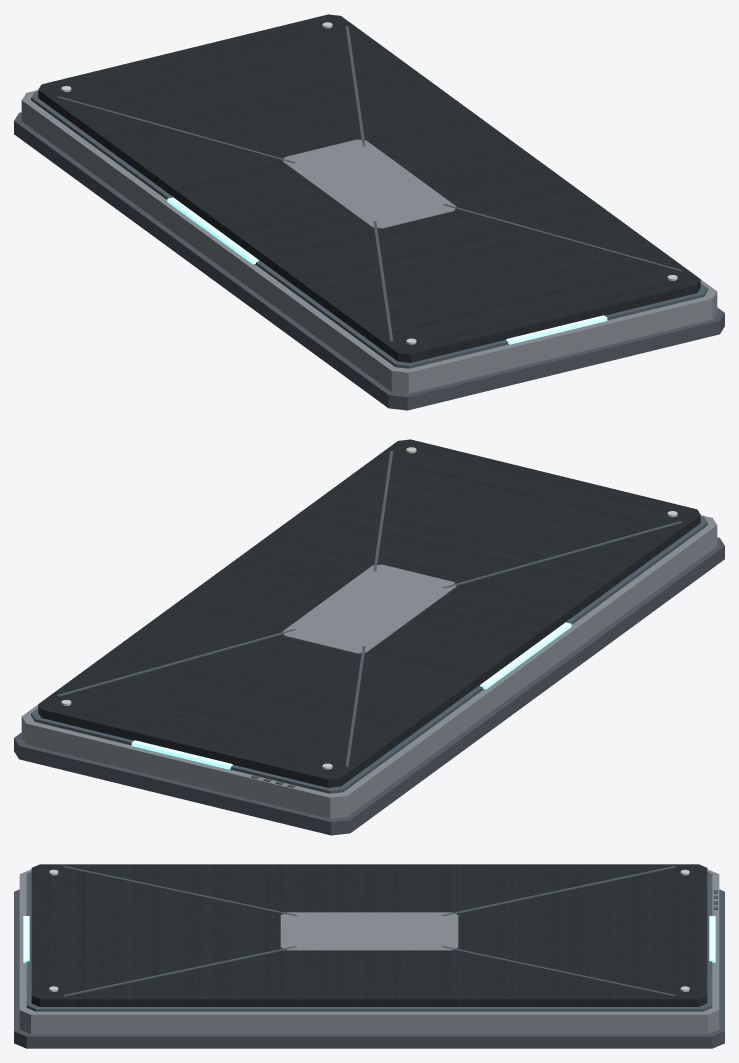
The model's file is m03-metal-half-z.glb.
3 views of the same model, one above another, from view 1: azimuth 30°, elevation 25°; view 2: azimuth 150°, elevation 25°; view 3: azimuth 270°, elevation 25° (orthographic). The views are drawn at different scales.
Visible parts, largest first — view 1: half-z/003, half-z/001, half-z/000, half-z/004, half-z/002, half-z/015, half-z/008, half-z/005, half-z/014; view 2: half-z/003, half-z/001, half-z/000, half-z/004, half-z/002, half-z/015, half-z/007, half-z/006, half-z/013; view 3: half-z/003, half-z/001, half-z/000, half-z/004, half-z/002, half-z/007, half-z/008, half-z/005, half-z/006, half-z/013, half-z/014.
Boxes of the visible parts, x1,y1,x2,y2 form: half-z/003: [38, 14, 700, 362]; half-z/001: [21, 90, 717, 393]; half-z/000: [14, 112, 724, 410]; half-z/004: [282, 139, 456, 228]; half-z/002: [31, 91, 707, 368]; half-z/015: [167, 197, 258, 264]; half-z/008: [443, 204, 681, 271]; half-z/005: [57, 96, 295, 163]; half-z/014: [506, 315, 607, 344]; half-z/003: [38, 439, 700, 787]; half-z/001: [21, 515, 717, 818]; half-z/000: [14, 537, 724, 835]; half-z/004: [282, 564, 456, 653]; half-z/002: [31, 516, 707, 793]; half-z/015: [480, 622, 571, 689]; half-z/007: [57, 629, 295, 696]; half-z/006: [443, 521, 681, 588]; half-z/013: [131, 740, 232, 769]; half-z/003: [31, 864, 707, 1006]; half-z/001: [19, 869, 719, 1033]; half-z/000: [14, 889, 724, 1048]; half-z/004: [280, 912, 458, 950]; half-z/002: [26, 872, 712, 1011]; half-z/007: [442, 946, 675, 996]; half-z/008: [63, 946, 296, 996]; half-z/005: [442, 866, 675, 915]; half-z/006: [63, 866, 296, 915]; half-z/013: [709, 916, 715, 962]; half-z/014: [23, 916, 29, 962].
Bounding box in the file's own units: 0.5 × 0.0678 × 1.
6 materials, 1 textured.
